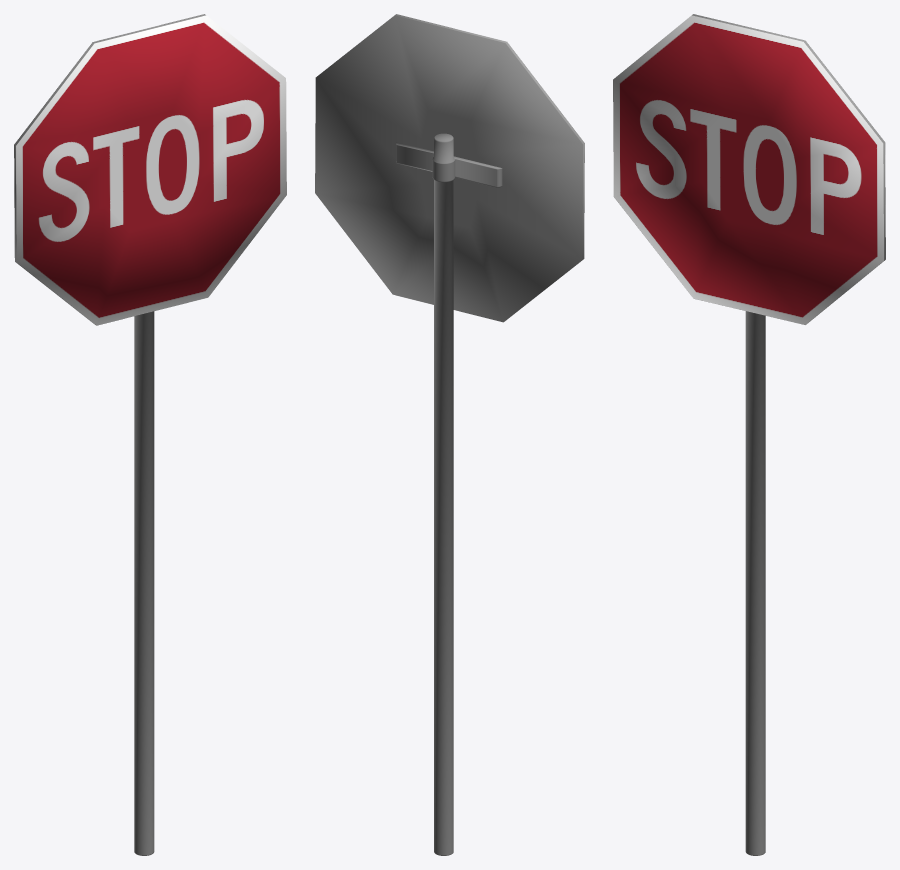
File: STOP.glb
3 views of the same model, side by side, from view 1: azimuth 30°, elevation 25°; view 2: azimuth 150°, elevation 25°; view 3: azimuth 330°, elevation 25° (orthographic).
Visible parts, largest first — view 1: Stop sign; view 2: Stop sign; view 3: Stop sign.
Boxes of the visible parts, x1=… form: Stop sign: x1=14, y1=14, x2=286, y2=855; Stop sign: x1=315, y1=14, x2=584, y2=855; Stop sign: x1=613, y1=14, x2=885, y2=855.
Size of the model in its own units: 0.7855 by 2.29 by 0.0639.
2 materials, 2 textured.
